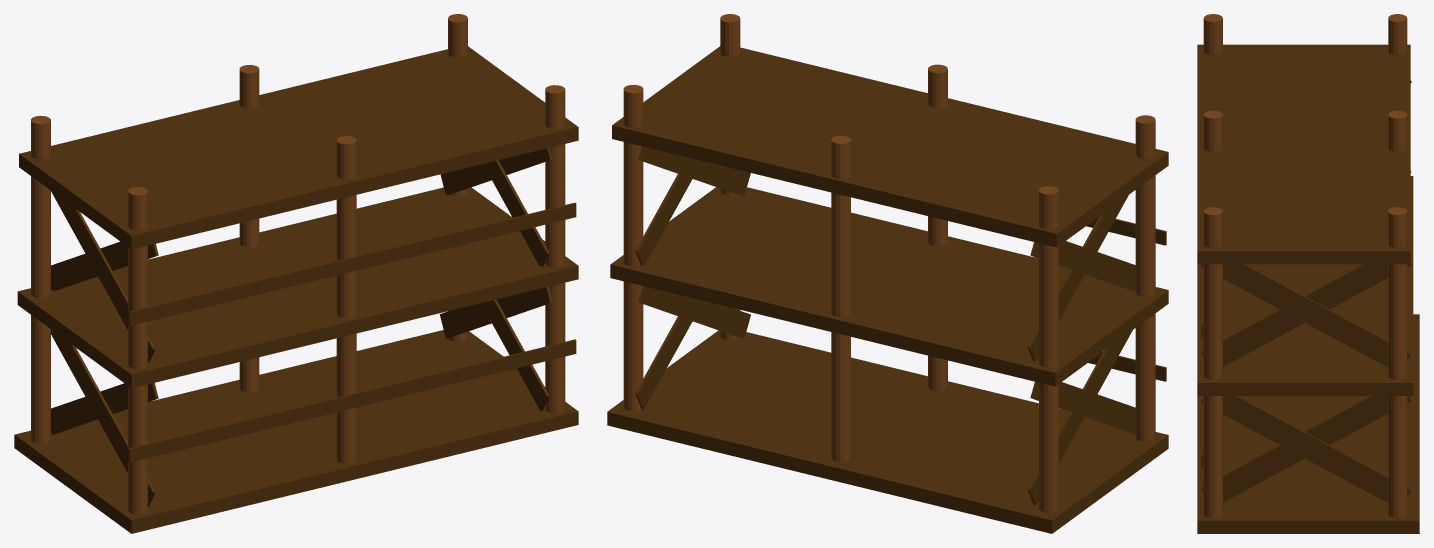
File: Andaime.fbx
3 renders of one model, left to right at view 1: azimuth 30°, elevation 25°; view 2: azimuth 150°, elevation 25°; view 3: azimuth 270°, elevation 25°, orthographic. The views are drawn at different scales.
Parts seen in each view (by area): view 1: Andaime; view 2: Andaime; view 3: Andaime.
Boxes of the visible parts, x1,y1,x2,y2 form: Andaime: (14, 14, 578, 533); Andaime: (607, 14, 1168, 533); Andaime: (1197, 14, 1419, 533).
Size of the model in its own units: 969 by 690 by 440.
